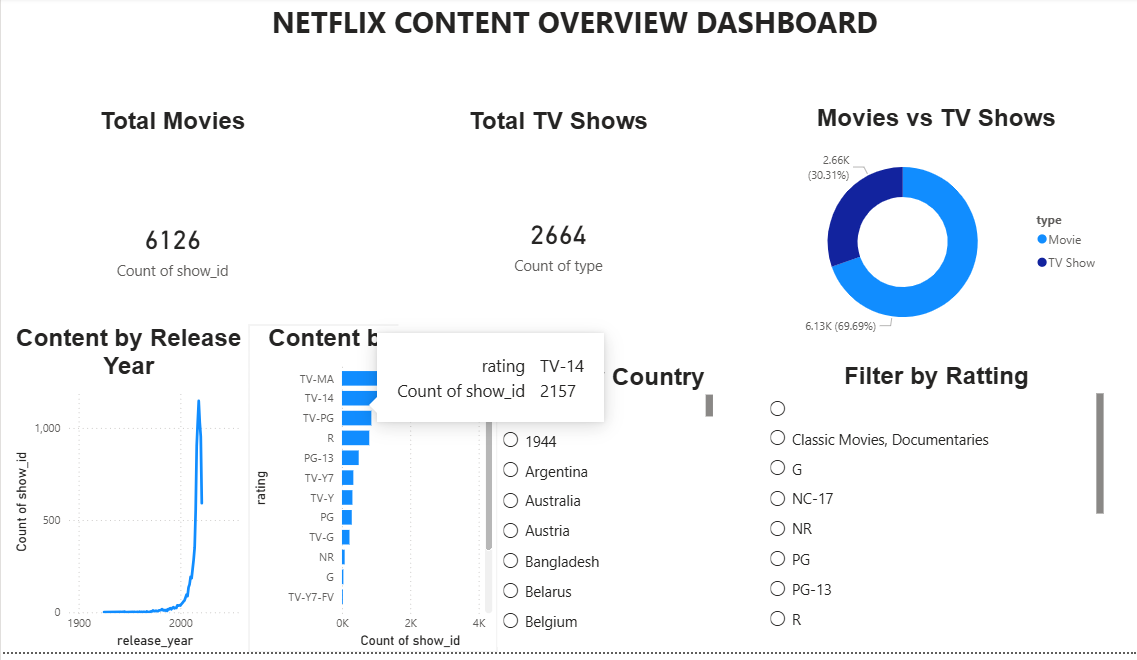

Layout of this report page (visuals, bound fields, positions):
{"tool":"powerbi","page":{"name":"Netflix Overview","canvas":[1280,720],"ordinal":0},"visuals":[{"type":"textbox","box":[9.6,0,1240.5,76.8],"z":0},{"type":"card","title":"Total Movies","fields":{"Values":["CountNonNull(Netflix _DATA.show_id)"]},"box":[0,121.4,377.1,280],"z":1000},{"type":"donutChart","title":"Movies vs TV Shows","fields":{"Category":["Netflix _DATA.type"],"Y":["CountNonNull(Netflix _DATA.show_id)"]},"box":[838.6,118.6,377.1,272.9],"z":2000},{"type":"clusteredBarChart","title":"Content by Rating","fields":{"Category":["Netflix _DATA.rating"],"Y":["CountNonNull(Netflix _DATA.show_id)"]},"box":[271.4,360,272.9,360],"z":3000},{"type":"lineChart","title":"Content by Release Year","fields":{"Category":["Netflix _DATA.release_year"],"Y":["CountNonNull(Netflix _DATA.show_id)"]},"box":[10,360,261.4,360],"z":4000},{"type":"card","title":"Total TV Shows","fields":{"Values":["CountNonNull(Netflix _DATA.type)"]},"box":[435.7,121.4,351.4,270],"z":5000},{"type":"listSlicer","title":"Filter by Country","fields":{"Values":["Netflix _DATA.country"]},"box":[544.3,401.4,242.9,311.4],"z":6000},{"type":"listSlicer","title":"Filter by Ratting","fields":{"Values":["Netflix _DATA.rating"]},"box":[839,401,377,311],"z":7000}]}

Visuals, with their boxes on the page's 1280x720 design canvas (x1, y1, x2, y2). These are canvas units, not pixel positions in the 1137x660 screenshot, which may show the page scaled, cropped or inside an application window:
textbox: [10,0,1250,77]
"Total Movies" card: [0,121,377,401]
"Movies vs TV Shows" donutChart: [839,119,1216,392]
"Content by Rating" clusteredBarChart: [271,360,544,720]
"Content by Release Year" lineChart: [10,360,271,720]
"Total TV Shows" card: [436,121,787,391]
"Filter by Country" listSlicer: [544,401,787,713]
"Filter by Ratting" listSlicer: [839,401,1216,712]
